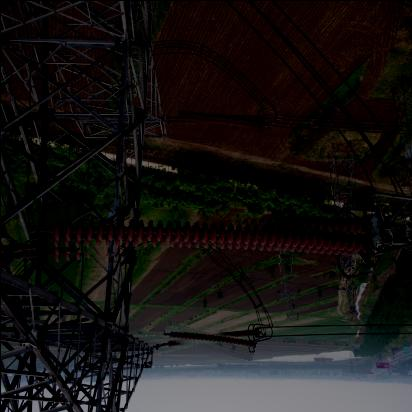insulator: (28, 207, 376, 274), (163, 325, 256, 355), (178, 112, 263, 128)
